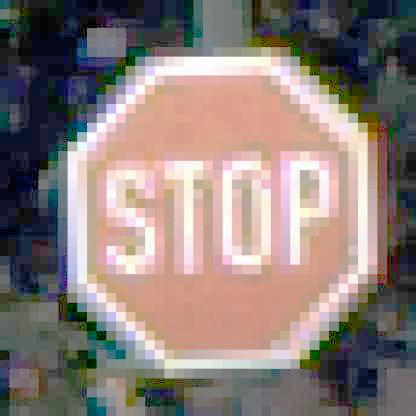Stop Sign: (64, 48, 381, 372)
